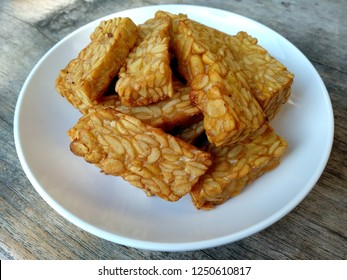Tempe: (66, 112, 195, 199), (161, 25, 256, 142), (114, 21, 173, 103), (61, 15, 125, 83), (249, 40, 298, 120)
